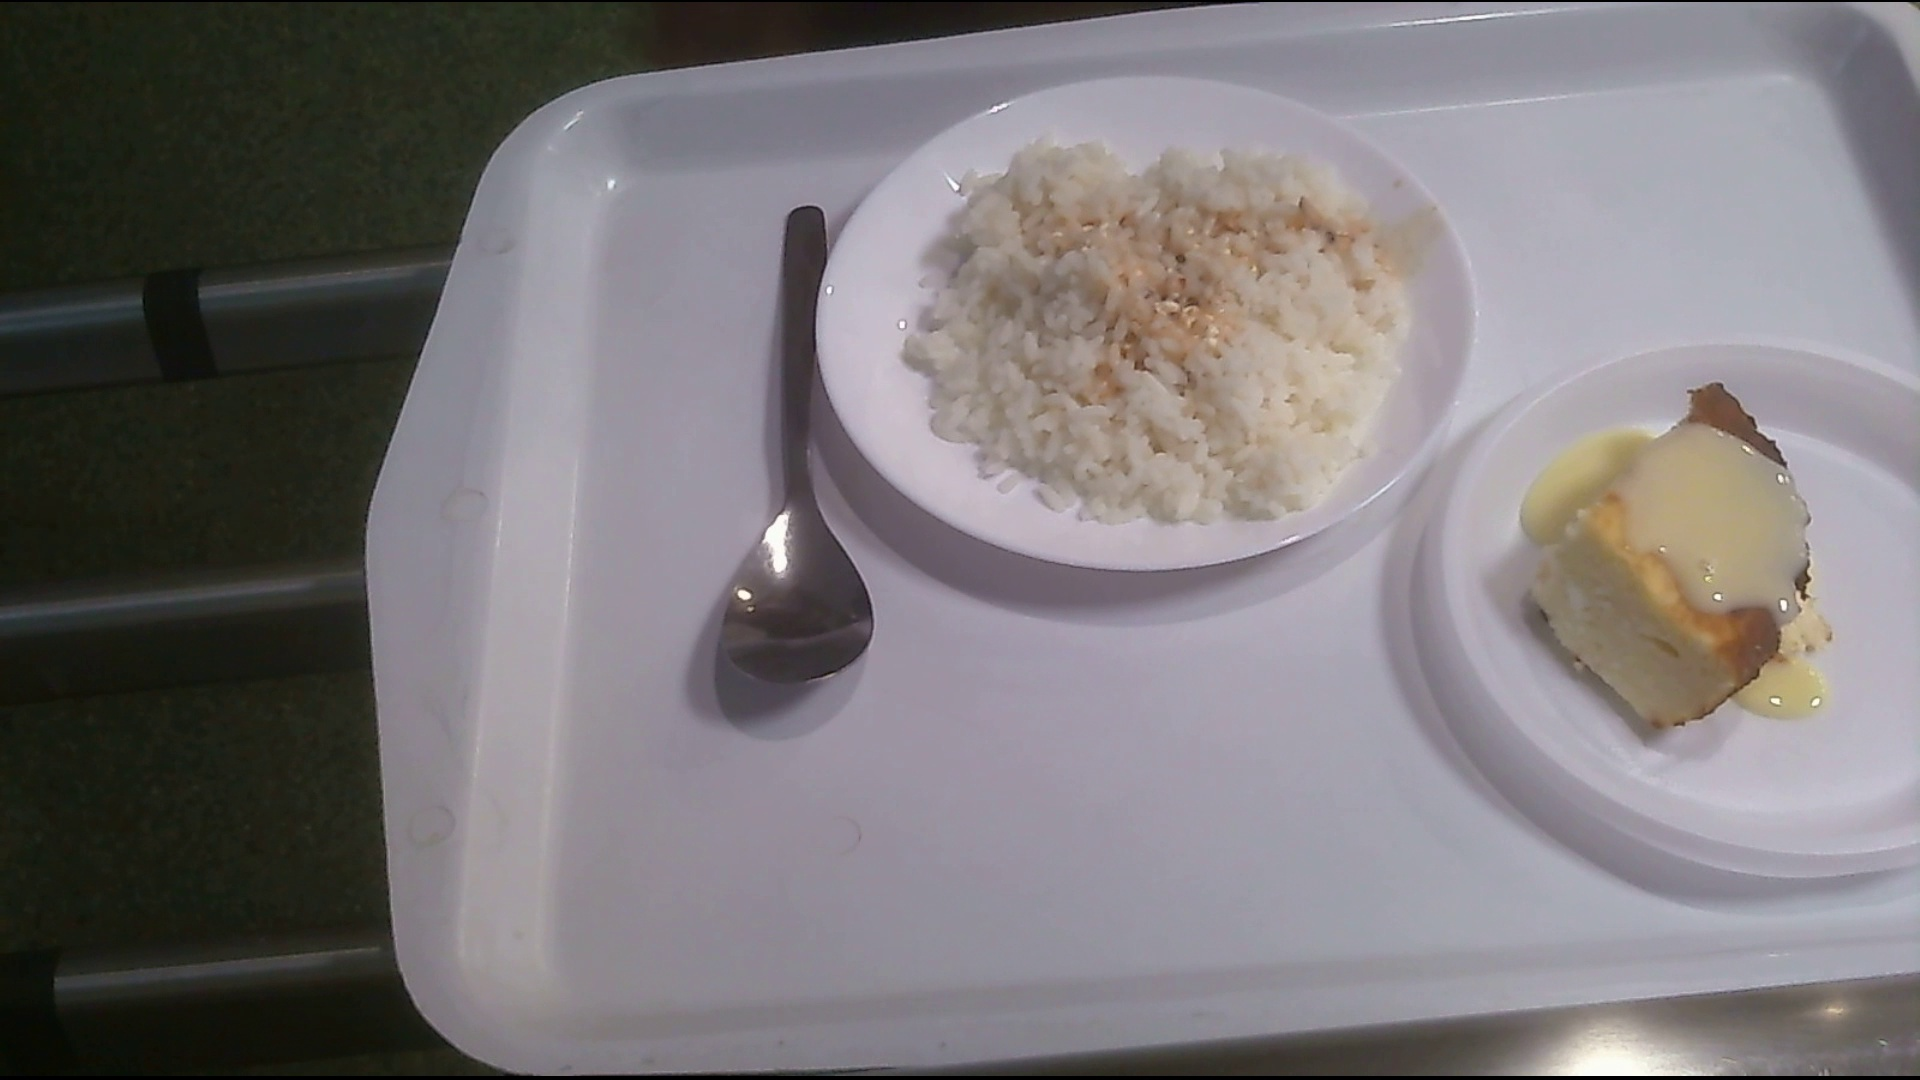cutlery: (723, 186, 882, 690)
plate: (795, 75, 1480, 579), (1443, 332, 1920, 876)
